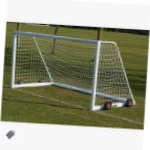goals: (10, 28, 137, 112)
